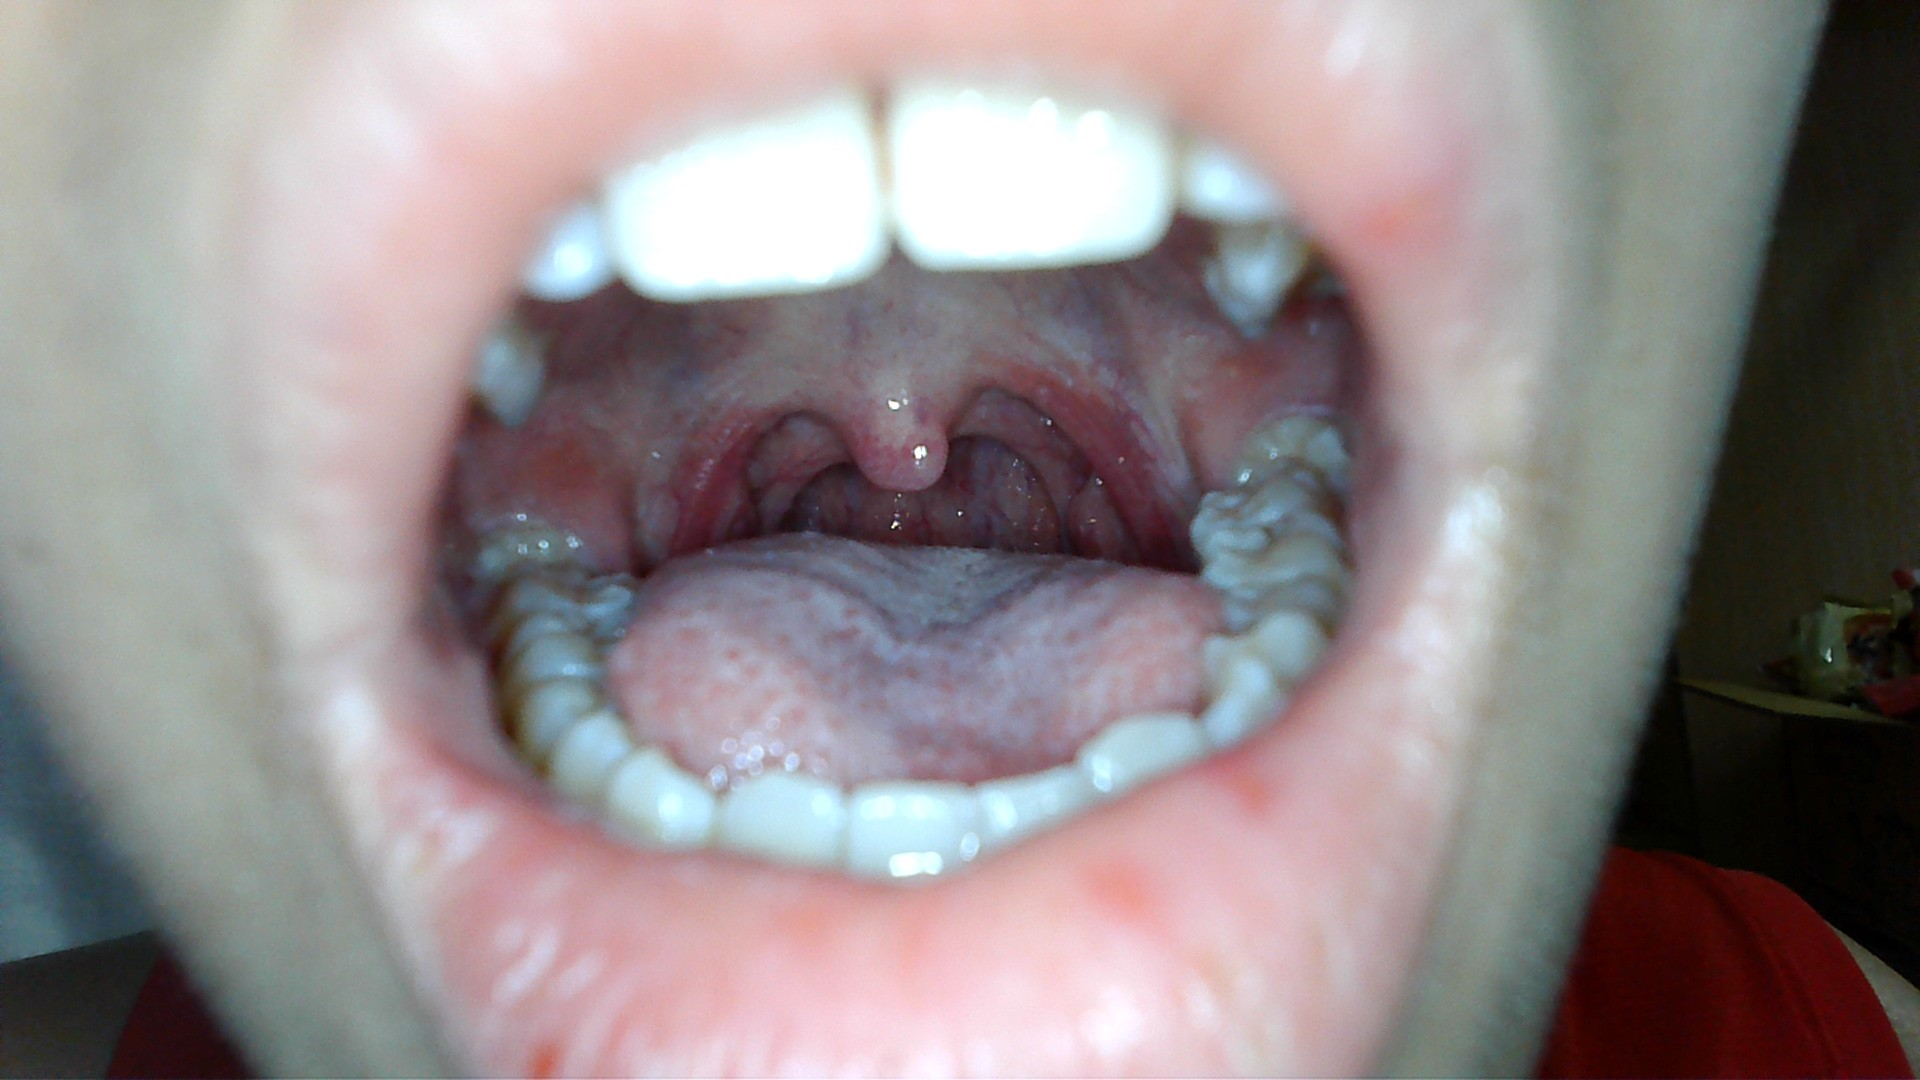throat: (1034, 348, 1174, 564), (658, 376, 786, 535)
